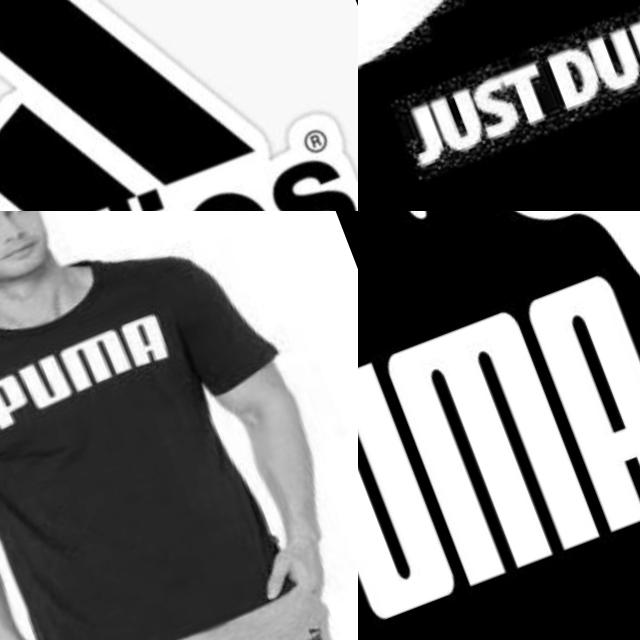ADIDAS_fake: (0, 0, 358, 211)
NIKE_fake: (358, 0, 640, 99)
PUMA_original: (358, 211, 640, 640), (0, 300, 186, 433)
